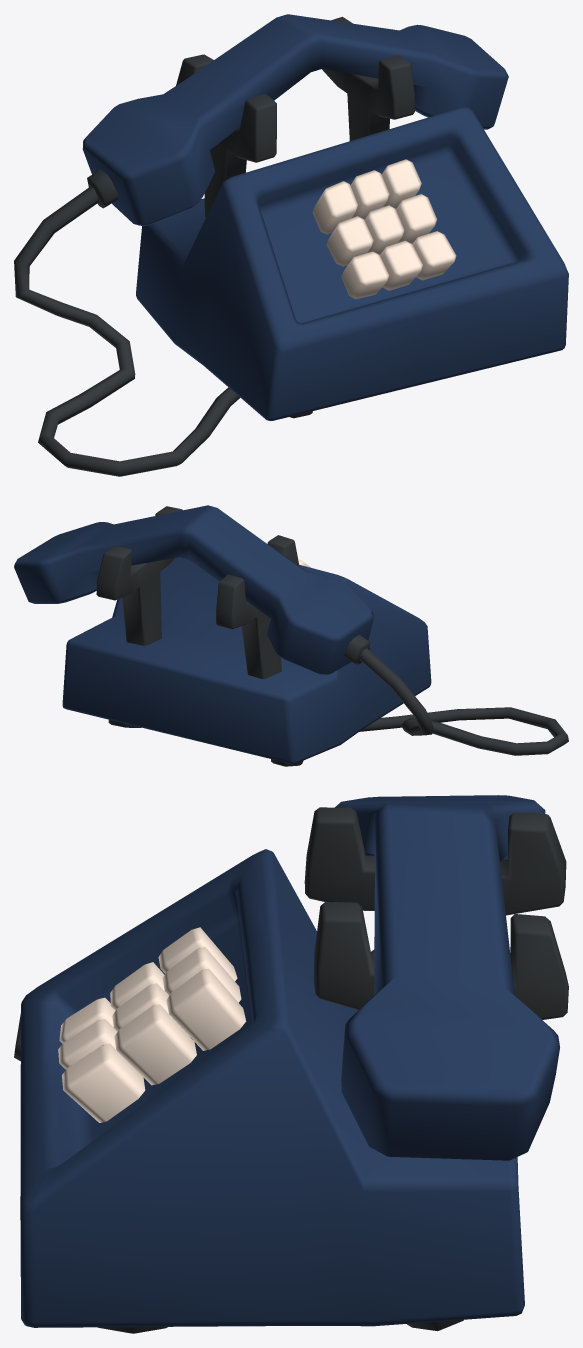
File: props_phone.fbx
3 views of the same model, one above another, from view 1: azimuth 30°, elevation 25°; view 2: azimuth 150°, elevation 25°; view 3: azimuth 270°, elevation 25° (orthographic). The views are drawn at different scales.
Visible parts, largest first — view 1: phone; view 2: phone; view 3: phone.
Boxes of the visible parts, x1=… form: phone: x1=14, y1=14, x2=568, y2=476; phone: x1=14, y1=505, x2=568, y2=766; phone: x1=14, y1=795, x2=568, y2=1333.
Bounding box in the file's own units: 115 × 58.18 × 64.17.
